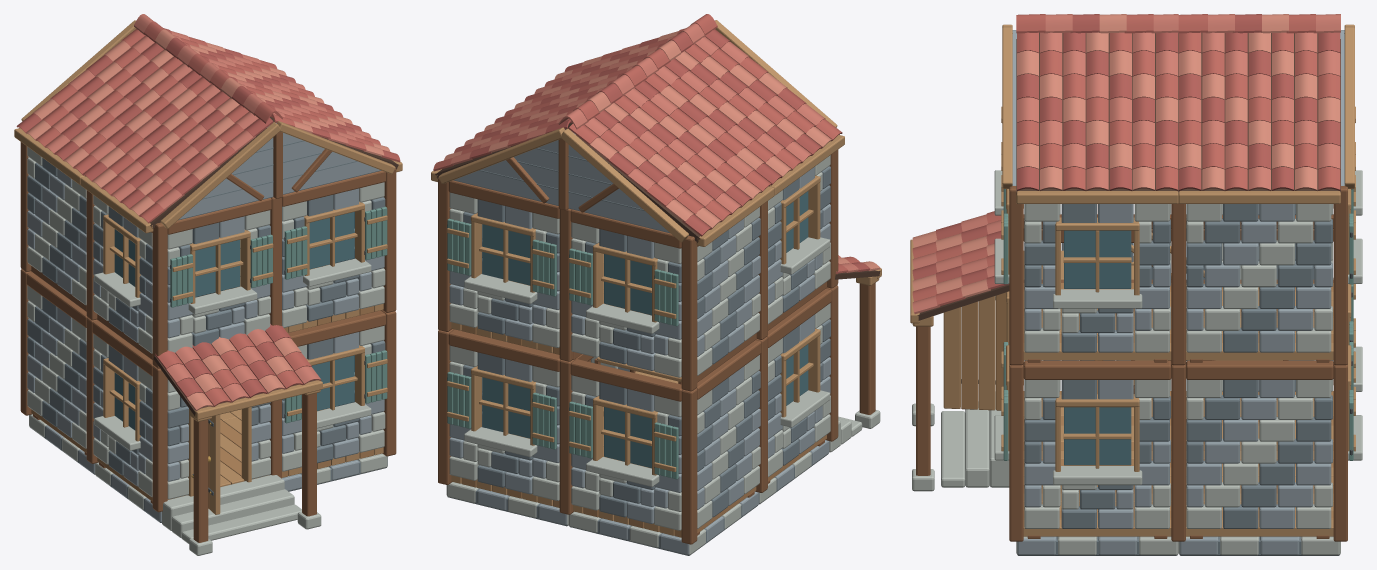
File: townhouse_terracotta.glb
The picture shows the model from 3 angles, left to right: view 1: azimuth 30°, elevation 25°; view 2: azimuth 150°, elevation 25°; view 3: azimuth 270°, elevation 25°; orthographic projection. The views are drawn at different scales.
Parts seen in each view (by area): view 1: roof_slope_terracotta_2m.006, roof_slope_terracotta_2m.008, wall_window_stone_2m.008, wall_window_stone_2m.007, canopy_terracotta_2m.001, gable_stone_4m.001, wall_window_stone_2m.002, wall_window_stone_2m.001, wall_stone_2m.001, wall_window_stone_2m.006, wall_stone_2m.003, porch_steps_stone_2m.003 (+35 smaller); view 2: roof_slope_terracotta_2m.008, roof_slope_terracotta_2m.006, wall_window_stone_2m.004, wall_window_stone_2m.010, wall_window_stone_2m.011, wall_window_stone_2m.005, gable_stone_4m.002, wall_stone_2m.001, wall_window_stone_2m.001, wall_stone_2m.003, wall_window_stone_2m.006, roof_slope_terracotta_2m.007 (+38 smaller); view 3: roof_slope_terracotta_2m.007, roof_slope_terracotta_2m.005, wall_stone_2m.002, wall_stone_2m.004, wall_window_stone_2m.003, wall_window_stone_2m.009, canopy_terracotta_2m.001, door_oak.003, porch_steps_stone_2m.003, roof_ridge_terracotta_2m.003, roof_ridge_terracotta_2m.004, foundation_stone_2m.013 (+22 smaller).
Boxes of the visible parts, x1=… form: roof_slope_terracotta_2m.006: x1=80, y1=77, x2=273, y2=233; roof_slope_terracotta_2m.008: x1=14, y1=29, x2=201, y2=184; wall_window_stone_2m.008: x1=282, y1=182, x2=385, y2=327; wall_window_stone_2m.007: x1=167, y1=210, x2=270, y2=352; canopy_terracotta_2m.001: x1=153, y1=324, x2=322, y2=419; gable_stone_4m.001: x1=160, y1=121, x2=395, y2=228; wall_window_stone_2m.002: x1=282, y1=325, x2=385, y2=471; wall_window_stone_2m.001: x1=93, y1=334, x2=152, y2=497; wall_stone_2m.001: x1=27, y1=285, x2=86, y2=448; wall_window_stone_2m.006: x1=93, y1=195, x2=152, y2=353; wall_stone_2m.003: x1=27, y1=147, x2=86, y2=305; porch_steps_stone_2m.003: x1=162, y1=475, x2=301, y2=543; roof_slope_terracotta_2m.008: x1=568, y1=80, x2=774, y2=246; roof_slope_terracotta_2m.006: x1=645, y1=29, x2=844, y2=195; wall_window_stone_2m.004: x1=571, y1=375, x2=681, y2=530; wall_window_stone_2m.010: x1=571, y1=222, x2=681, y2=377; wall_window_stone_2m.011: x1=449, y1=192, x2=559, y2=347; wall_window_stone_2m.005: x1=449, y1=345, x2=559, y2=500; gable_stone_4m.002: x1=438, y1=127, x2=688, y2=242; wall_stone_2m.001: x1=697, y1=355, x2=760, y2=528; wall_window_stone_2m.001: x1=768, y1=303, x2=830, y2=477; wall_stone_2m.003: x1=697, y1=207, x2=760, y2=375; wall_window_stone_2m.006: x1=768, y1=155, x2=830, y2=324; roof_slope_terracotta_2m.007: x1=431, y1=79, x2=615, y2=181; roof_slope_terracotta_2m.007: x1=1178, y1=32, x2=1340, y2=203; roof_slope_terracotta_2m.005: x1=1016, y1=32, x2=1178, y2=203; wall_stone_2m.002: x1=1186, y1=379, x2=1332, y2=528; wall_stone_2m.004: x1=1186, y1=204, x2=1332, y2=352; wall_window_stone_2m.003: x1=1024, y1=379, x2=1170, y2=528; wall_window_stone_2m.009: x1=1024, y1=204, x2=1170, y2=352; canopy_terracotta_2m.001: x1=910, y1=211, x2=1009, y2=323; door_oak.003: x1=943, y1=292, x2=1006, y2=410; porch_steps_stone_2m.003: x1=941, y1=391, x2=1009, y2=487; roof_ridge_terracotta_2m.003: x1=1016, y1=14, x2=1178, y2=33; roof_ridge_terracotta_2m.004: x1=1178, y1=14, x2=1340, y2=33; foundation_stone_2m.013: x1=1016, y1=536, x2=1178, y2=555.
Bounding box in the file's own units: 4.54 × 6.46 × 5.58.
